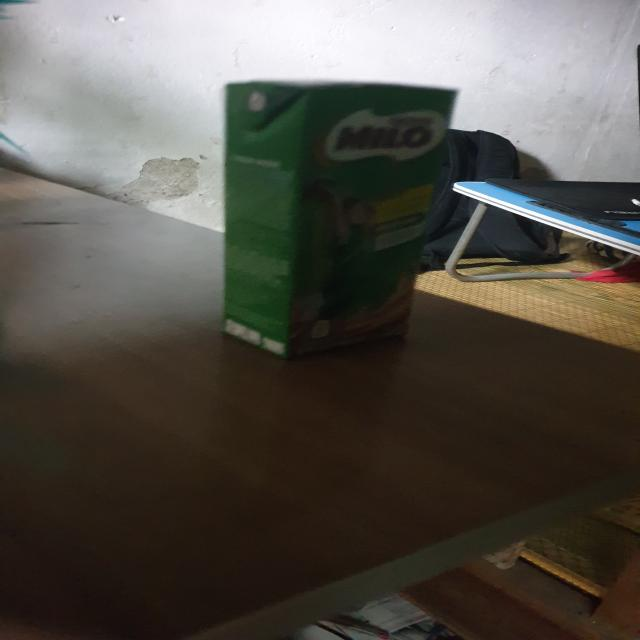Milo: (211, 77, 460, 365)
